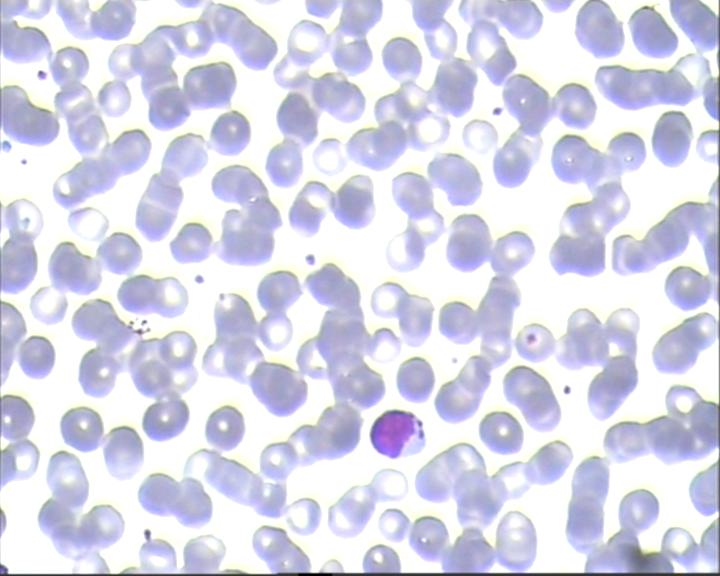lymp: (365, 405, 433, 462)
